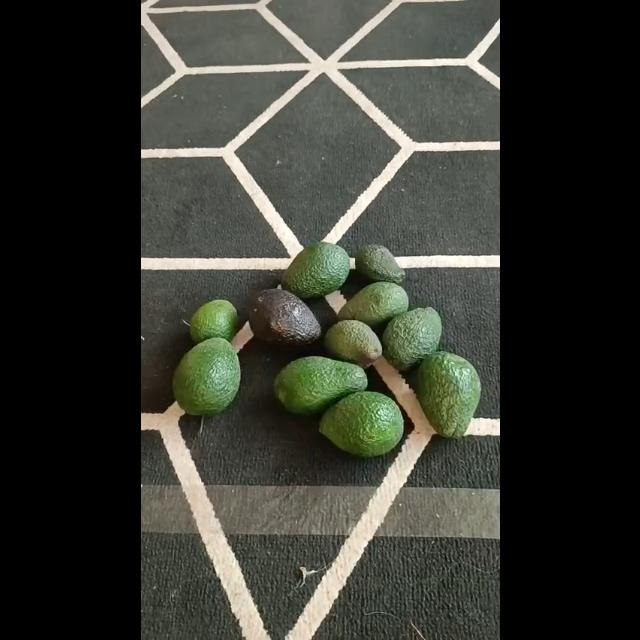Primera: (415, 351, 481, 437), (171, 337, 241, 418), (272, 356, 366, 416), (320, 390, 404, 456), (247, 288, 320, 348), (282, 242, 350, 298), (382, 306, 442, 368), (338, 282, 408, 328)
Segunda: (323, 319, 382, 367), (188, 300, 236, 344)
Tercera: (353, 243, 405, 284)
